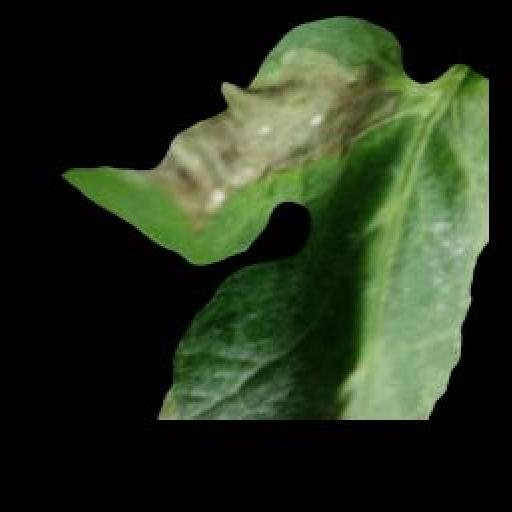disease_tomato: (53, 18, 487, 420)
